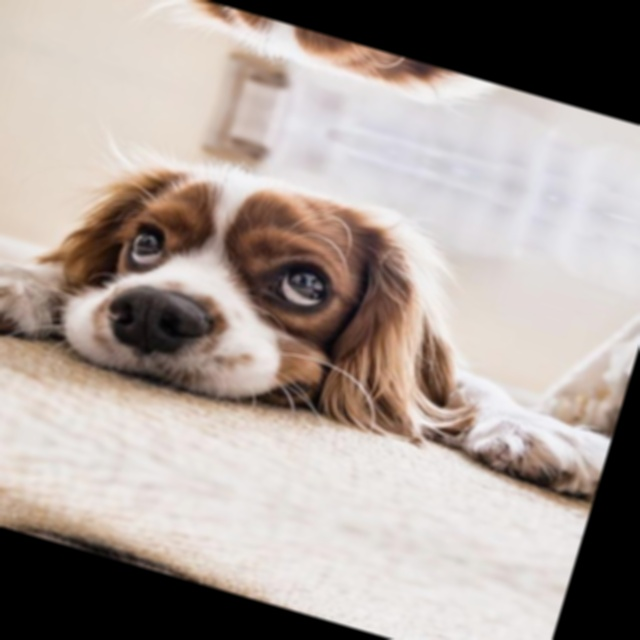dog: (6, 94, 503, 474), (101, 0, 538, 156), (0, 494, 384, 635)
